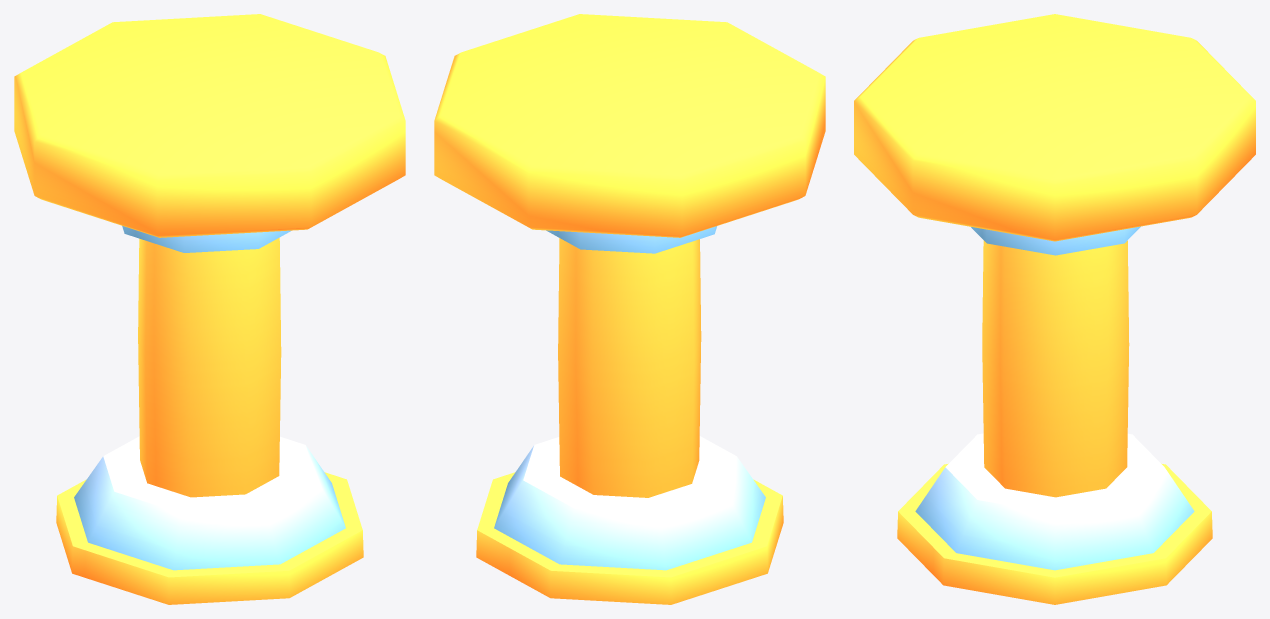
Rendered from gold_and_steel_grip_064.glb.
3 renders of one model, left to right at view 1: azimuth 30°, elevation 25°; view 2: azimuth 150°, elevation 25°; view 3: azimuth 270°, elevation 25°, orthographic.
Visible parts, largest first — view 1: gold_and_steel_grip_064; view 2: gold_and_steel_grip_064; view 3: gold_and_steel_grip_064.
Part boxes in pixels (bbox=[...]): gold_and_steel_grip_064: bbox=[14, 14, 405, 604]; gold_and_steel_grip_064: bbox=[434, 14, 825, 604]; gold_and_steel_grip_064: bbox=[854, 14, 1255, 604].
Bounding box in the file's own units: 2.72 × 3.31 × 2.72.
1 material, 1 textured.
